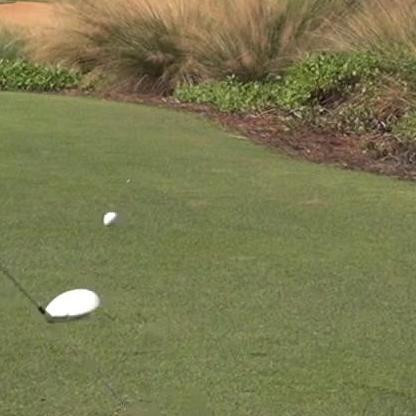golfball: (100, 207, 118, 227)
